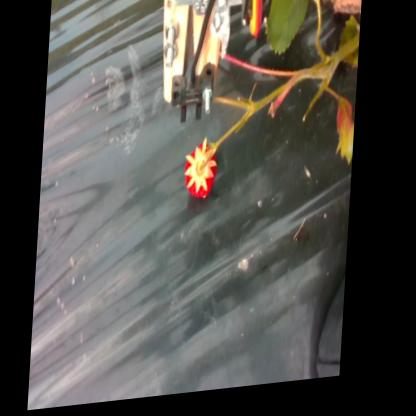ripe: (181, 145, 225, 207)
